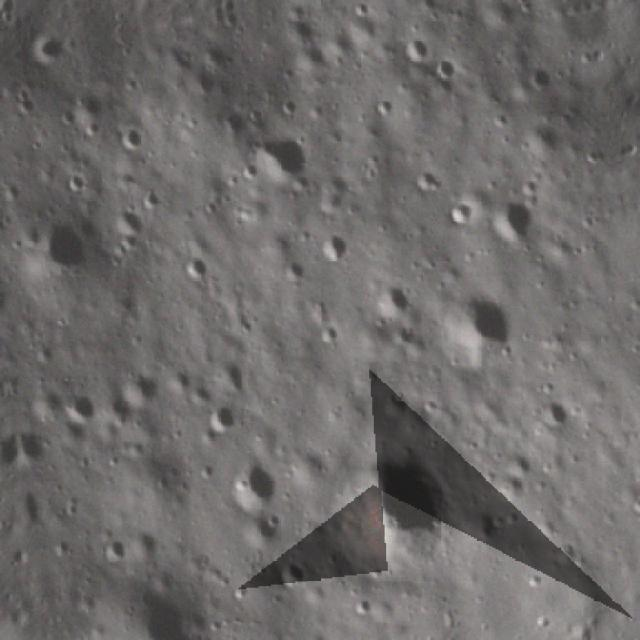crater: (312, 446, 471, 594), (105, 571, 223, 640), (436, 283, 522, 372), (25, 211, 92, 286), (217, 448, 286, 518), (249, 124, 322, 190), (481, 193, 542, 252), (274, 5, 332, 53), (117, 359, 168, 413), (367, 272, 421, 322), (518, 117, 568, 166), (239, 500, 287, 551), (59, 388, 104, 430), (201, 398, 245, 440), (108, 202, 150, 245), (16, 420, 53, 468), (199, 34, 241, 74), (102, 387, 142, 425), (396, 29, 438, 65), (444, 191, 479, 234), (70, 86, 108, 123), (503, 446, 539, 485), (317, 227, 352, 267), (522, 61, 558, 99), (216, 106, 252, 142), (409, 163, 445, 199), (310, 315, 344, 353), (535, 397, 571, 432), (98, 532, 131, 570), (116, 118, 147, 157), (178, 250, 213, 284), (277, 556, 311, 590), (61, 162, 93, 198), (11, 86, 44, 120), (428, 50, 459, 85), (279, 254, 312, 286), (234, 156, 263, 192), (56, 103, 78, 131), (80, 118, 106, 140)
